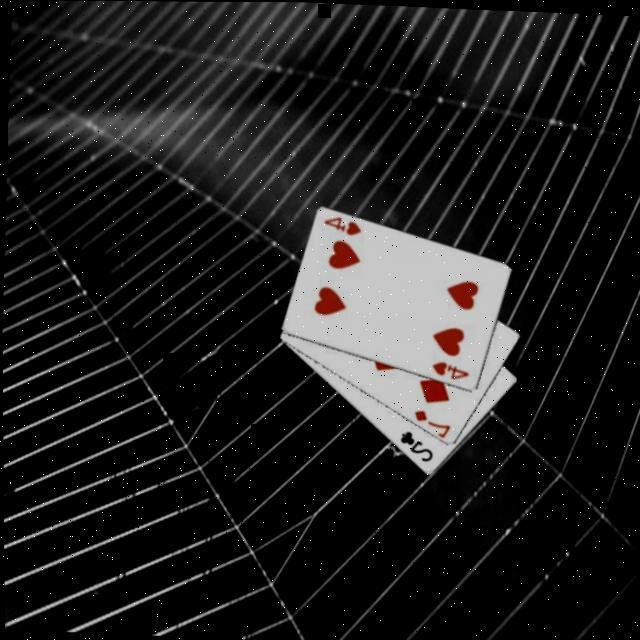2C: (394, 429, 433, 466)
4H: (319, 214, 363, 240), (427, 360, 470, 383)
7D: (408, 408, 452, 440)
